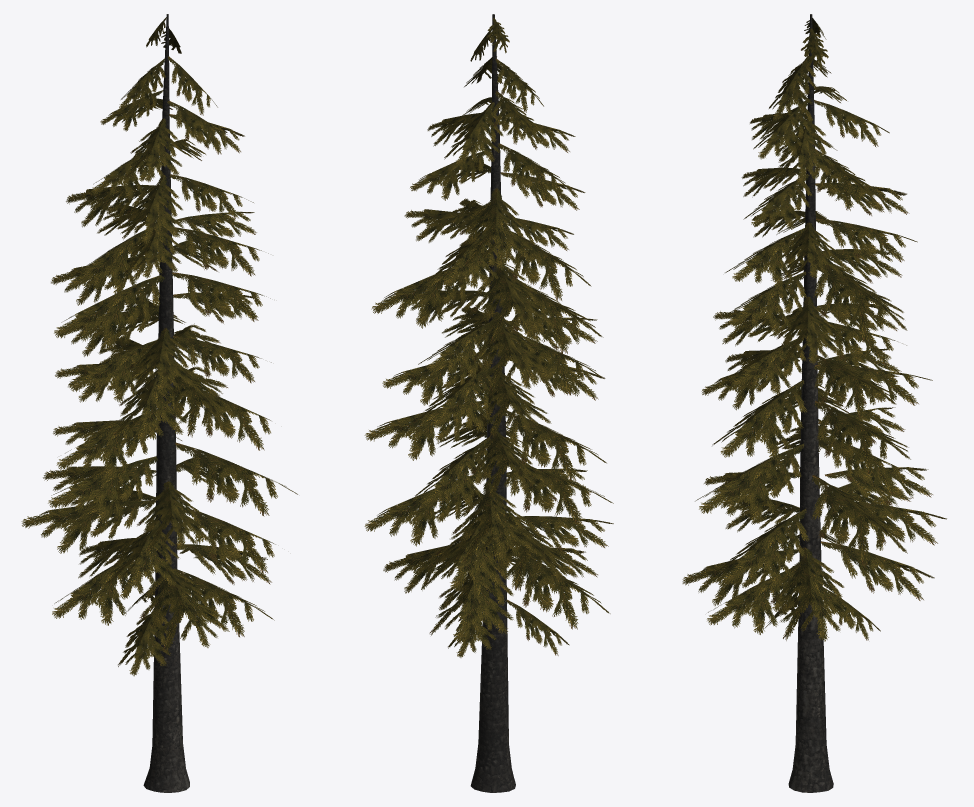
The model's file is pine_tree_n_3_1.glb.
3 renders of one model, left to right at view 1: azimuth 30°, elevation 25°; view 2: azimuth 150°, elevation 25°; view 3: azimuth 270°, elevation 25°, orthographic.
Visible parts, largest first — view 1: pine_tree_n_3_1_branches, pine_tree_n_3_1; view 2: pine_tree_n_3_1_branches, pine_tree_n_3_1; view 3: pine_tree_n_3_1_branches, pine_tree_n_3_1.
Boxes of the visible parts, left/top/right/bottom form: pine_tree_n_3_1_branches: left=21, top=17, right=297, bottom=676; pine_tree_n_3_1: left=143, top=14, right=189, bottom=792; pine_tree_n_3_1_branches: left=364, top=18, right=613, bottom=657; pine_tree_n_3_1: left=470, top=14, right=515, bottom=792; pine_tree_n_3_1_branches: left=682, top=18, right=946, bottom=641; pine_tree_n_3_1: left=788, top=14, right=833, bottom=792.
Size of the model in its own units: 3 by 9.1 by 3.13.
2 materials, 2 textured.
